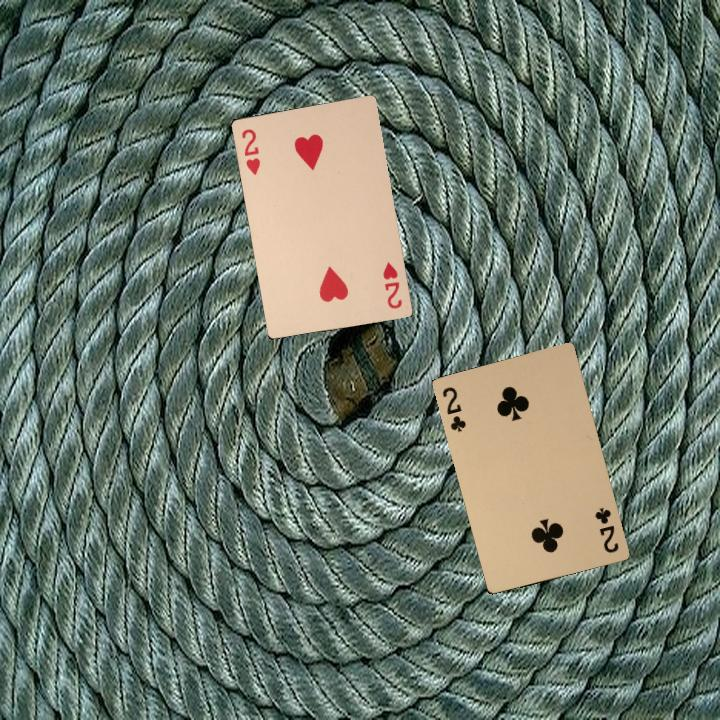2c: (591, 503, 621, 556), (438, 383, 469, 434)
2h: (379, 258, 405, 311), (237, 125, 263, 177)
